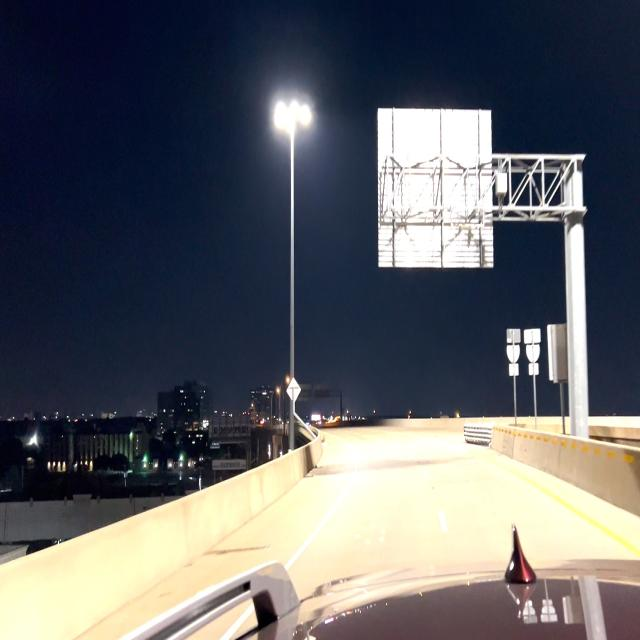back-of-sign: (379, 107, 494, 270), (548, 325, 568, 382), (524, 326, 541, 377), (507, 328, 520, 379)
